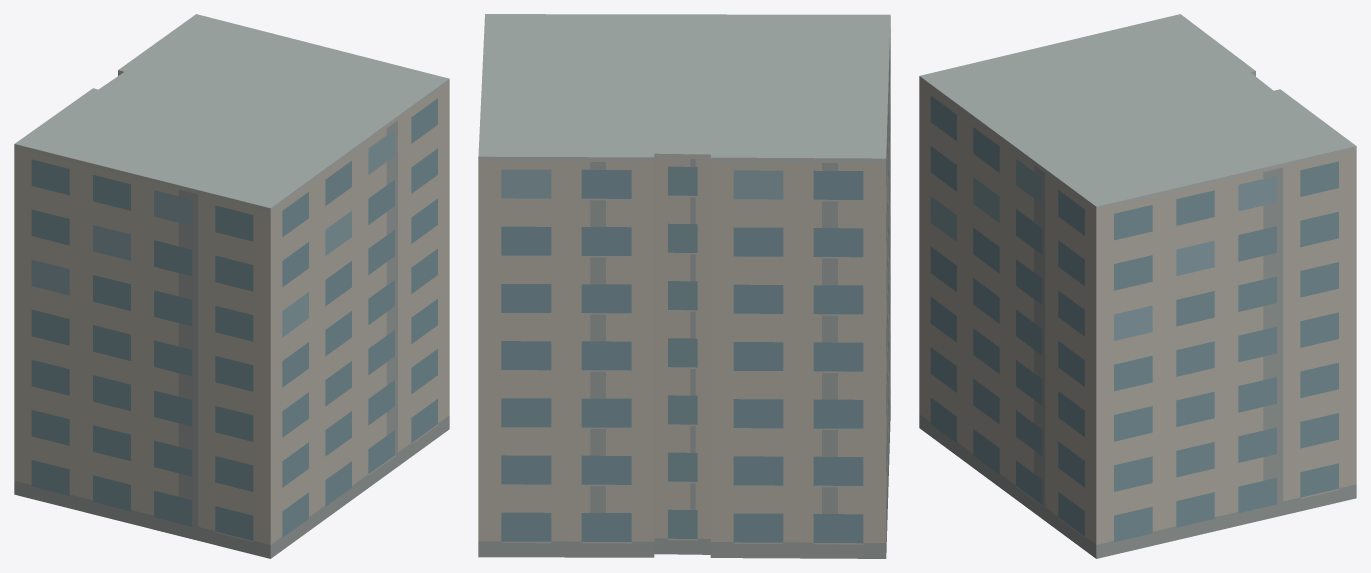
The model's file is survey-upis-32721965.glb.
3 renders of one model, left to right at view 1: azimuth 30°, elevation 25°; view 2: azimuth 150°, elevation 25°; view 3: azimuth 270°, elevation 25°, orthographic. The views are drawn at different scales.
Visible parts, largest first — view 1: survey-upis-32721965.tmp; view 2: survey-upis-32721965.tmp; view 3: survey-upis-32721965.tmp.
Part boxes in pixels (box(x1,y1,x2,y2)): survey-upis-32721965.tmp: box(14, 14, 449, 558); survey-upis-32721965.tmp: box(478, 14, 890, 558); survey-upis-32721965.tmp: box(919, 14, 1356, 558).
Size of the model in its own units: 23.89 by 20.35 by 22.9.
